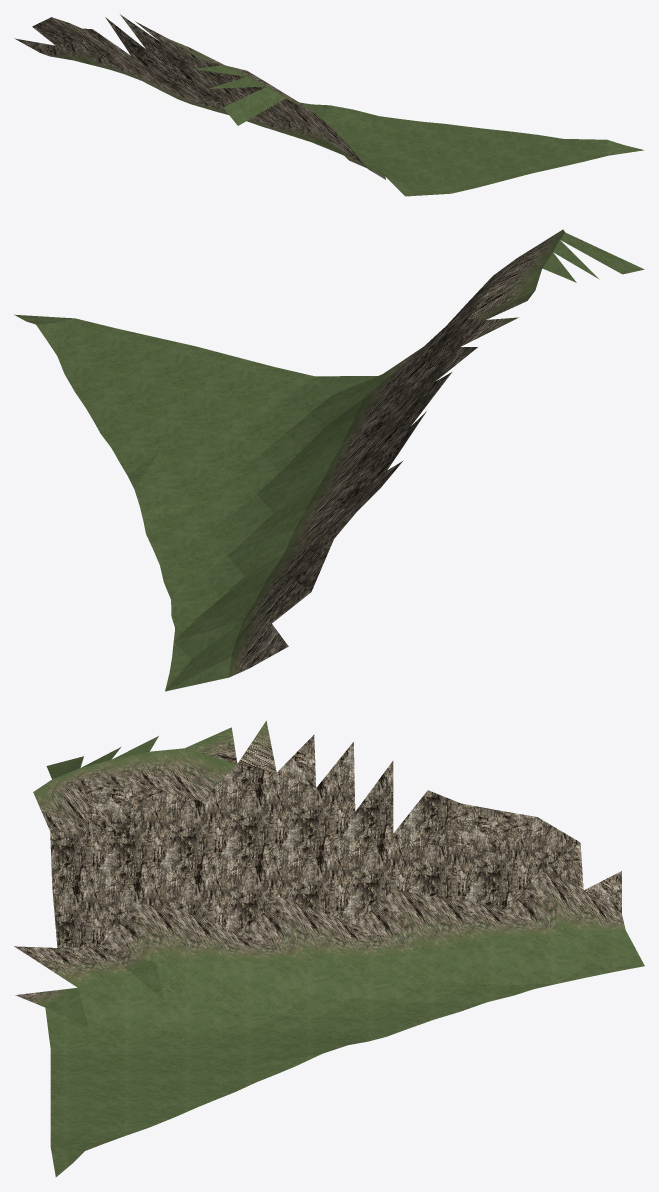
The model's file is a_carisle_mid_landmass_00_02.fbx.
3 views of the same model, one above another, from view 1: azimuth 30°, elevation 25°; view 2: azimuth 150°, elevation 25°; view 3: azimuth 270°, elevation 25° (orthographic). The views are drawn at different scales.
Visible parts, largest first — view 1: a_carisle_mid_landmass_00_02; view 2: a_carisle_mid_landmass_00_02; view 3: a_carisle_mid_landmass_00_02.
Boxes of the visible parts, left/top/right/bottom form: a_carisle_mid_landmass_00_02: left=14, top=14, right=643, bottom=196; a_carisle_mid_landmass_00_02: left=14, top=229, right=644, bottom=691; a_carisle_mid_landmass_00_02: left=14, top=720, right=644, bottom=1176.
Bounding box in the file's own units: 36.2 × 37.87 × 13.4.
